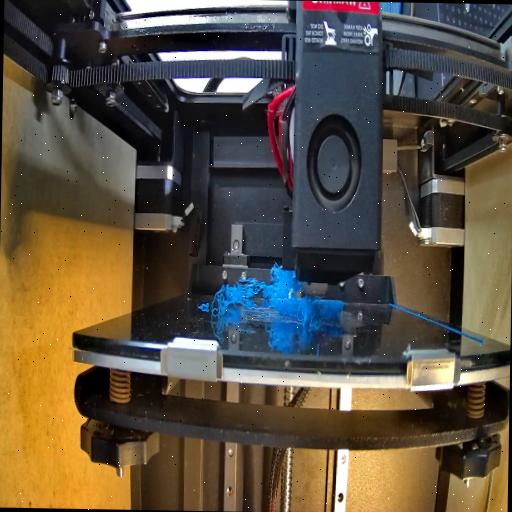spaghetti: (211, 266, 290, 314), (294, 290, 324, 333)
